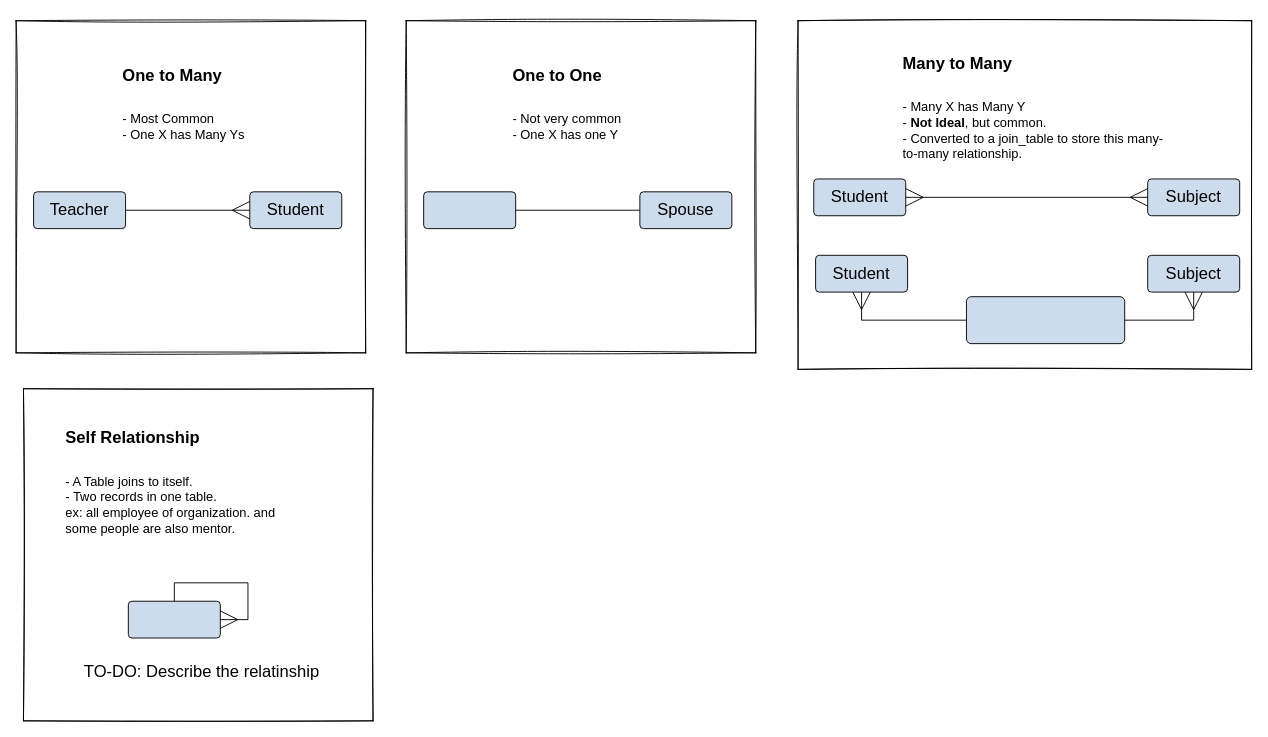
This 1268x737 diagram has some shape labels left out. Here are the shapes that lost their labels. From the top down, the centre of each, then its label:
At (469,210): "Person".
At (1045,320): "student_subject".
At (173,619): "Employee".
